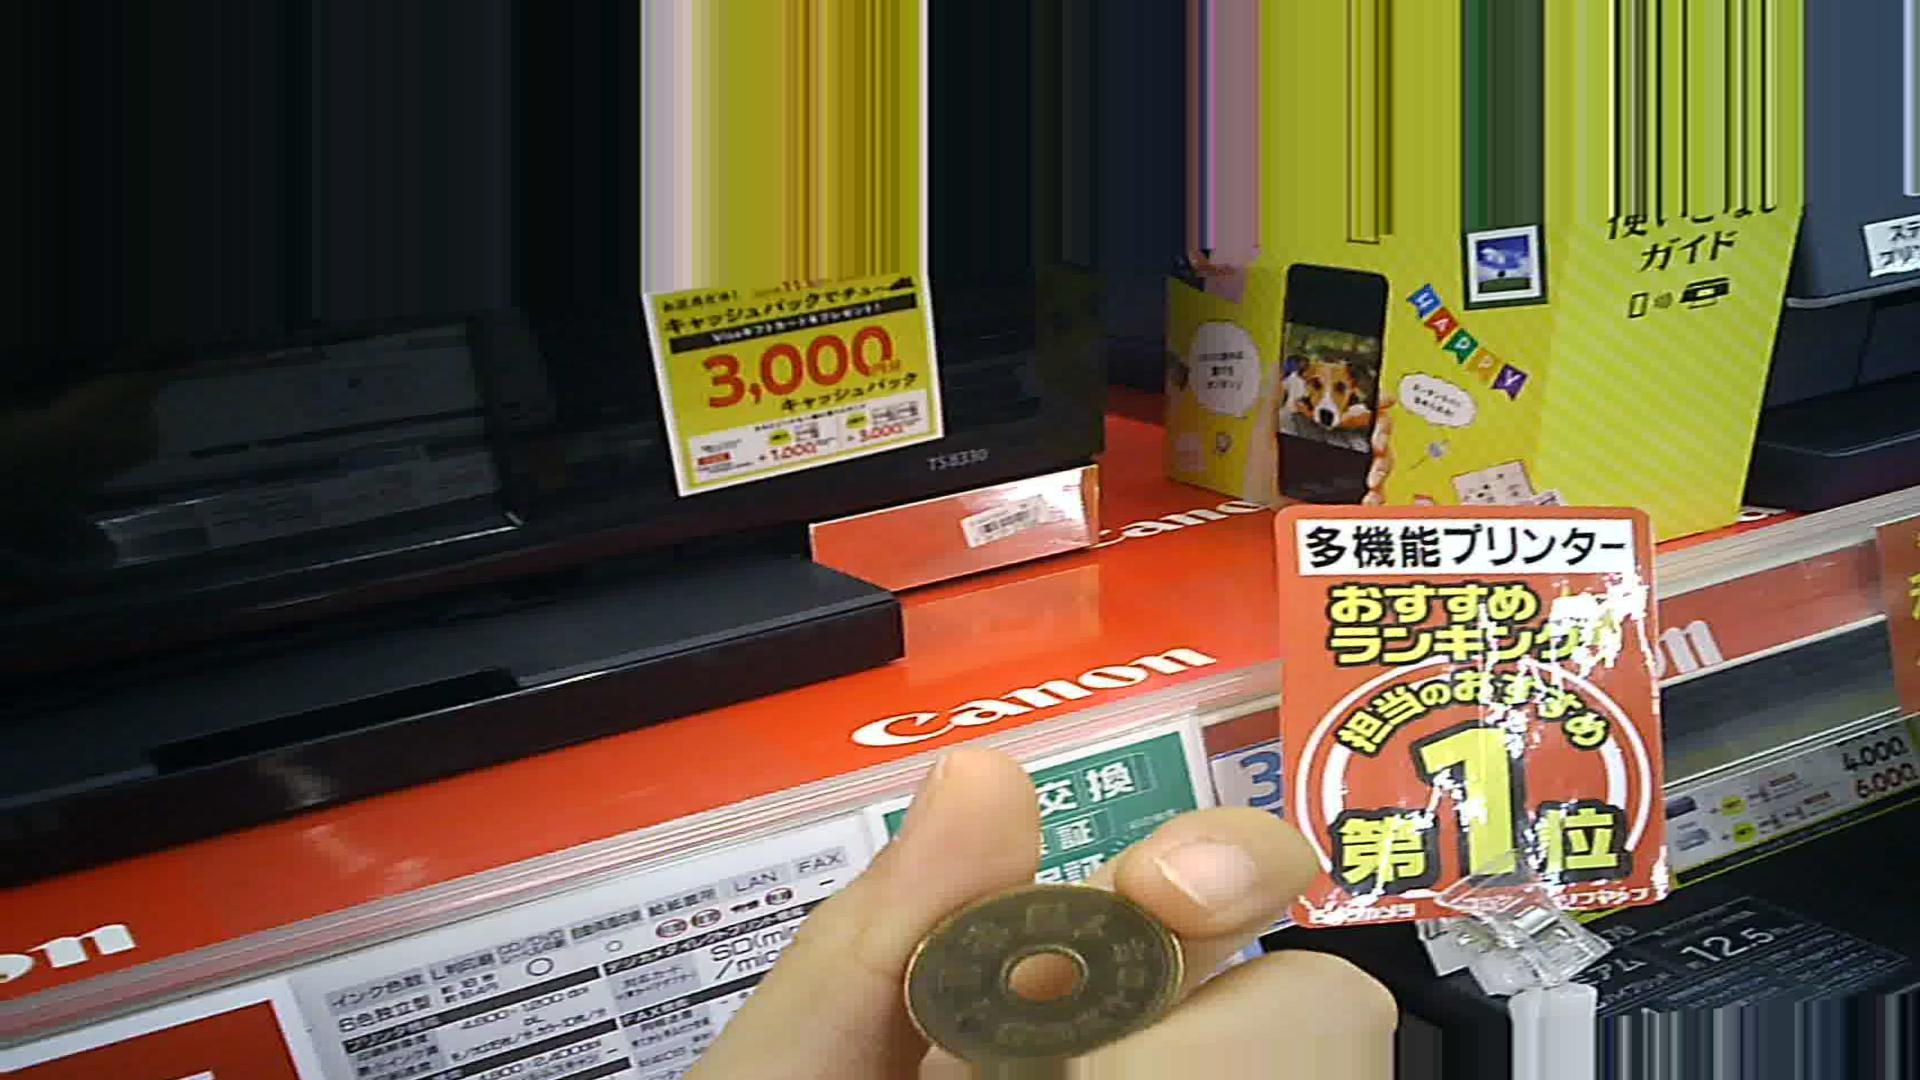5 Yen: (884, 868, 1197, 1079)
